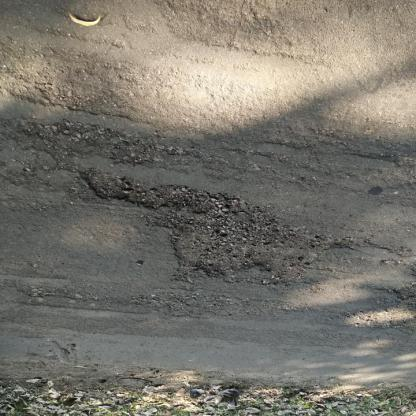pothole: (80, 167, 362, 289), (391, 281, 416, 306)
